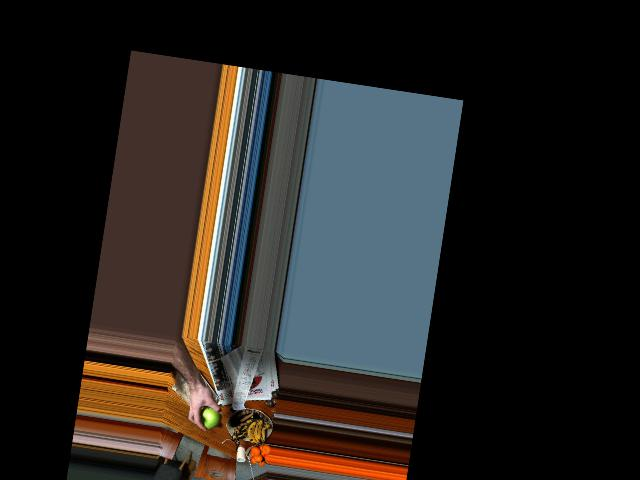apple: (195, 399, 222, 430)
